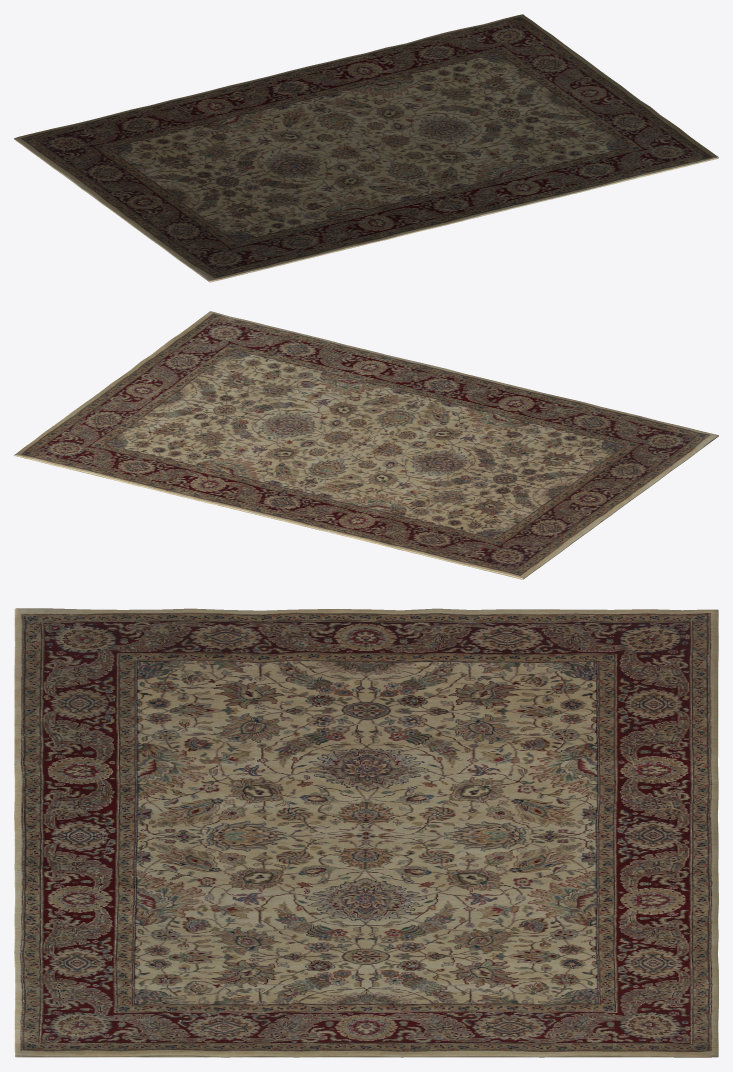
The model's file is rug.glb.
3 renders of one model, top to bottom at view 1: azimuth 30°, elevation 25°; view 2: azimuth 150°, elevation 25°; view 3: azimuth 270°, elevation 25°, orthographic. The views are drawn at different scales.
Visible parts, largest first — view 1: carpet1_00.006; view 2: carpet1_00.006; view 3: carpet1_00.006.
Part boxes in pixels (x1=…): carpet1_00.006: x1=14, y1=14, x2=718, y2=282; carpet1_00.006: x1=14, y1=311, x2=718, y2=579; carpet1_00.006: x1=14, y1=608, x2=718, y2=1057.
Size of the model in its own units: 2.1 by 0.00872 by 1.4.
Materials: 1 (1 with a texture image).
